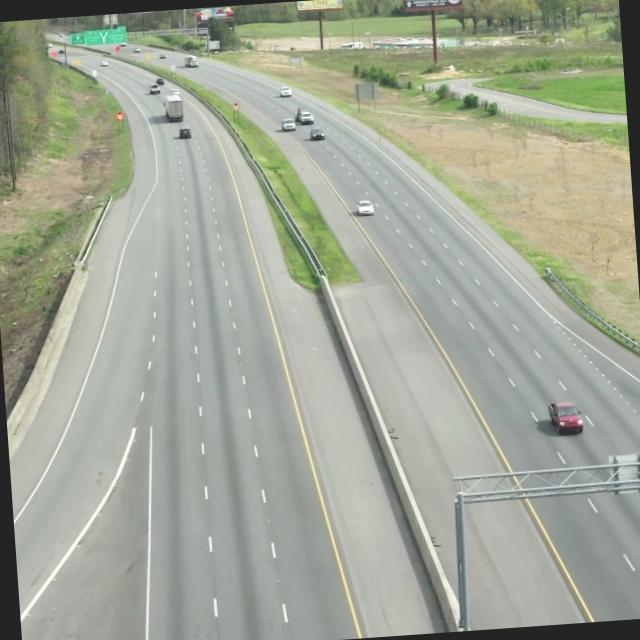Vehicle: (542, 396, 584, 437), (352, 194, 378, 220)
